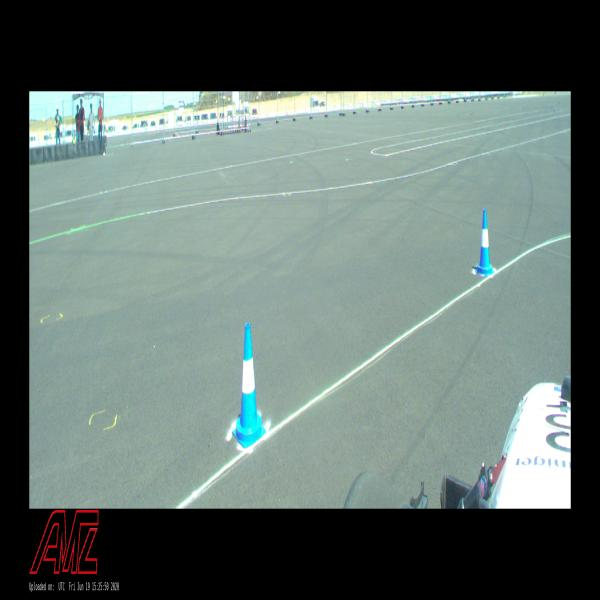blue_cone: (233, 324, 266, 448), (475, 211, 495, 275)
